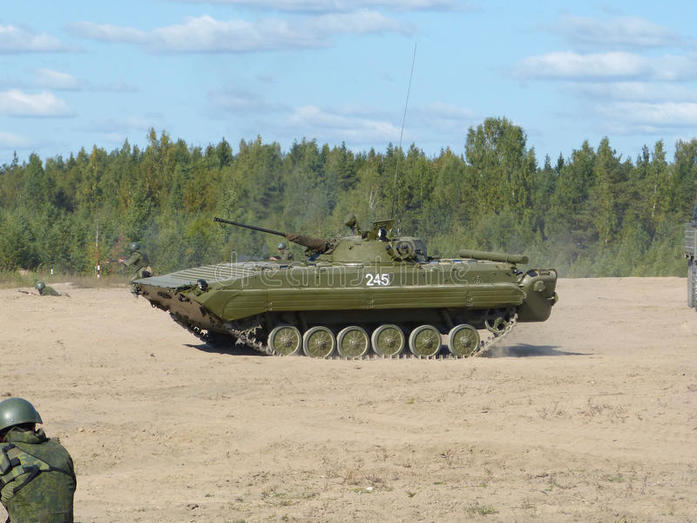bmp: (133, 221, 526, 356)
